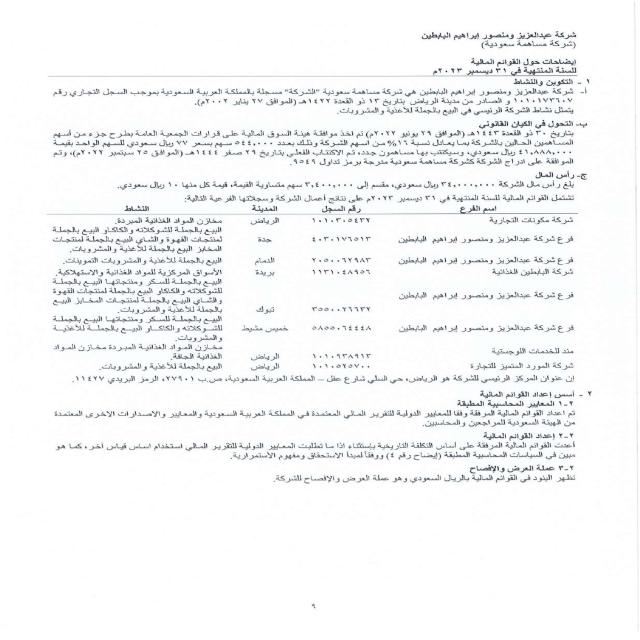notes: (465, 56, 582, 66)
table: (24, 204, 580, 374)
